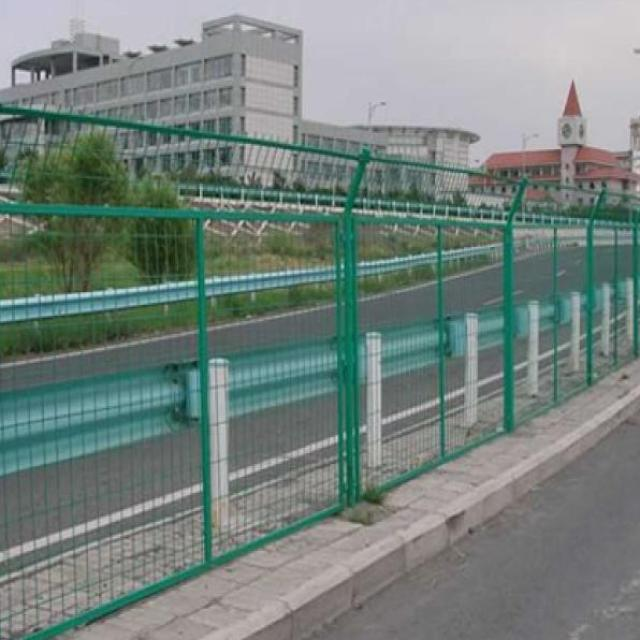Guard rail: (0, 363, 199, 477), (229, 338, 337, 417), (0, 283, 196, 325), (207, 269, 334, 298), (382, 320, 435, 379), (359, 254, 435, 276), (478, 311, 501, 346), (447, 246, 498, 260), (517, 306, 528, 338), (542, 303, 552, 330)
